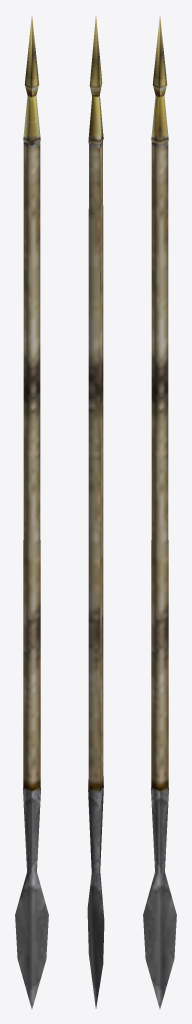
The model's file is spear.glb.
3 renders of one model, left to right at view 1: azimuth 90°, elevation 25°; view 2: azimuth 210°, elevation 25°; view 3: azimuth 270°, elevation 25°, orthographic.
Bounding box in the file's own units: 0.00261 × 0.1565 × 0.00482.
Materials: 1 (1 with a texture image).
